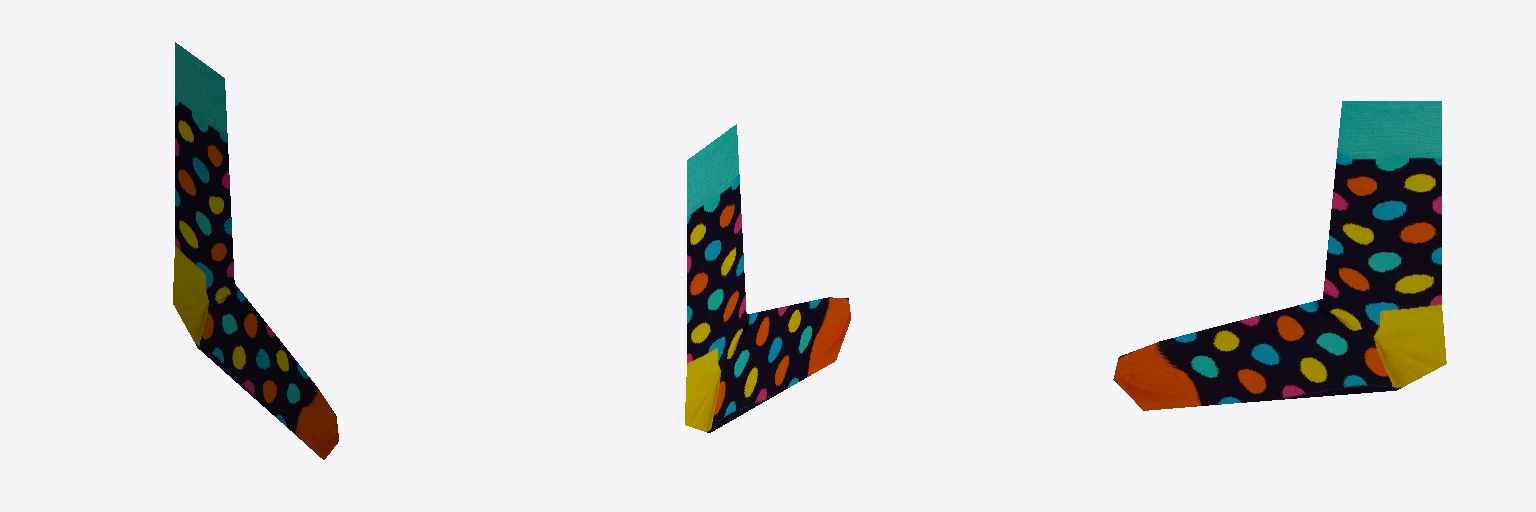
3 renders of one model, left to right at view 1: azimuth 30°, elevation 25°; view 2: azimuth 150°, elevation 25°; view 3: azimuth 270°, elevation 25°, orthographic.
Visible parts, largest first — view 1: sock Mesh; view 2: sock Mesh; view 3: sock Mesh.
Part boxes in pixels (left/top/right/bottom): sock Mesh: left=173, top=42, right=338, bottom=459; sock Mesh: left=685, top=124, right=850, bottom=432; sock Mesh: left=1113, top=101, right=1446, bottom=410.
Size of the model in its own units: 0 by 6.99 by 6.82.
Materials: 1 (1 with a texture image).